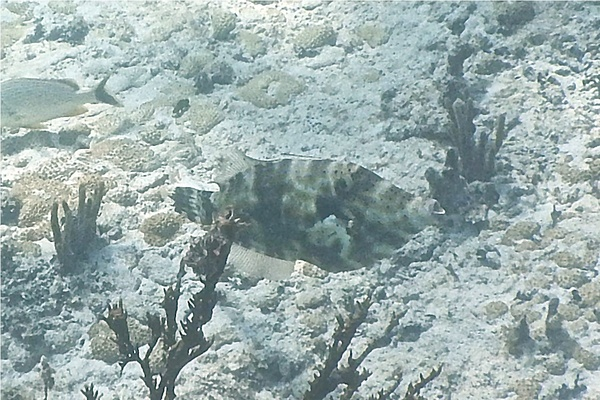Aluterus_scriptus: (173, 152, 465, 271)
